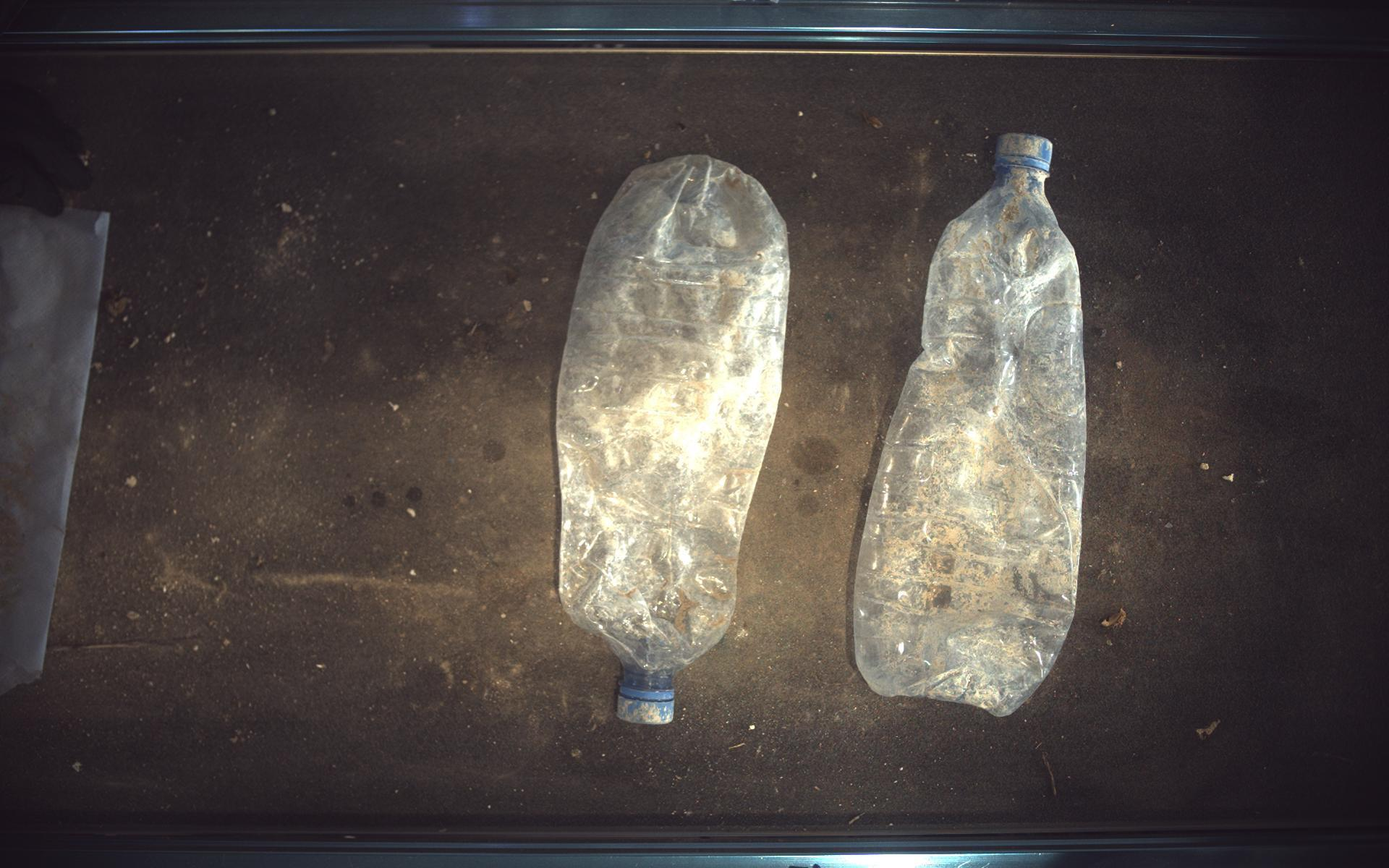general_w: (855, 132, 1089, 718), (557, 154, 790, 726)
